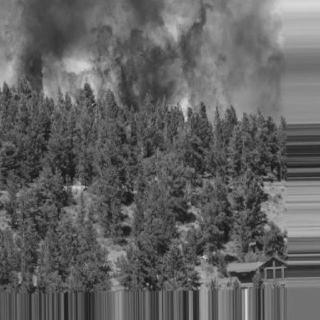Fire: (0, 11, 240, 126)
